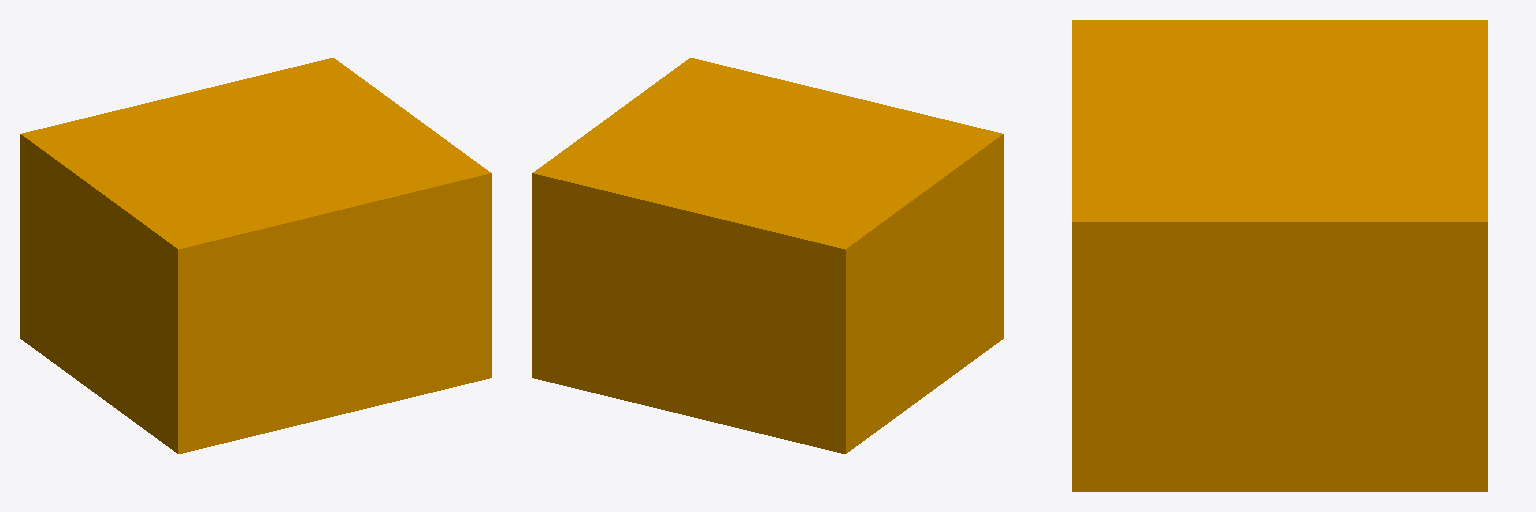
robot.urdf — object:
<?xml version="1.0"?>
<!-- Auto-generated by tools/gen_primitive_objects.py. kind=box dims=(0.083639, 0.073116, 0.052327) -->
<robot name="object">
  <link name="object">
    <visual>
      <origin xyz="0 0 0"/>
      <geometry>
        <box size="0.083639 0.073116 0.052327"/>
      </geometry>
    </visual>
    <collision>
      <origin xyz="0 0 0"/>
      <geometry>
        <box size="0.083639 0.073116 0.052327"/>
      </geometry>
    </collision>
    <inertial>
      <mass value="0.064000"/>
      <inertia ixx="0.00004311" ixy="0.0" ixz="0.0" iyy="0.00005191" iyz="0.0" izz="0.00006582"/>
    </inertial>
  </link>
</robot>

--- Facts derived from the render (not from the file) ---
Views: 3 orthographic renders of the robot side by side, from view 1: azimuth 30°, elevation 25°; view 2: azimuth 150°, elevation 25°; view 3: azimuth 270°, elevation 25°.
Robot: object — 1 links, 0 joints (none); root link object; default pose: all joints at 0.
Links seen in each view (by area): view 1: object; view 2: object; view 3: object.
Boxes of the visible links, bbox=[...] form: object: bbox=[20, 58, 491, 453]; object: bbox=[532, 58, 1003, 453]; object: bbox=[1072, 20, 1487, 491].
Size in the robot's own frame: 0.0836 by 0.0731 by 0.0523 metres.
Geometry: primitives only (box / cylinder / sphere), no mesh files.
